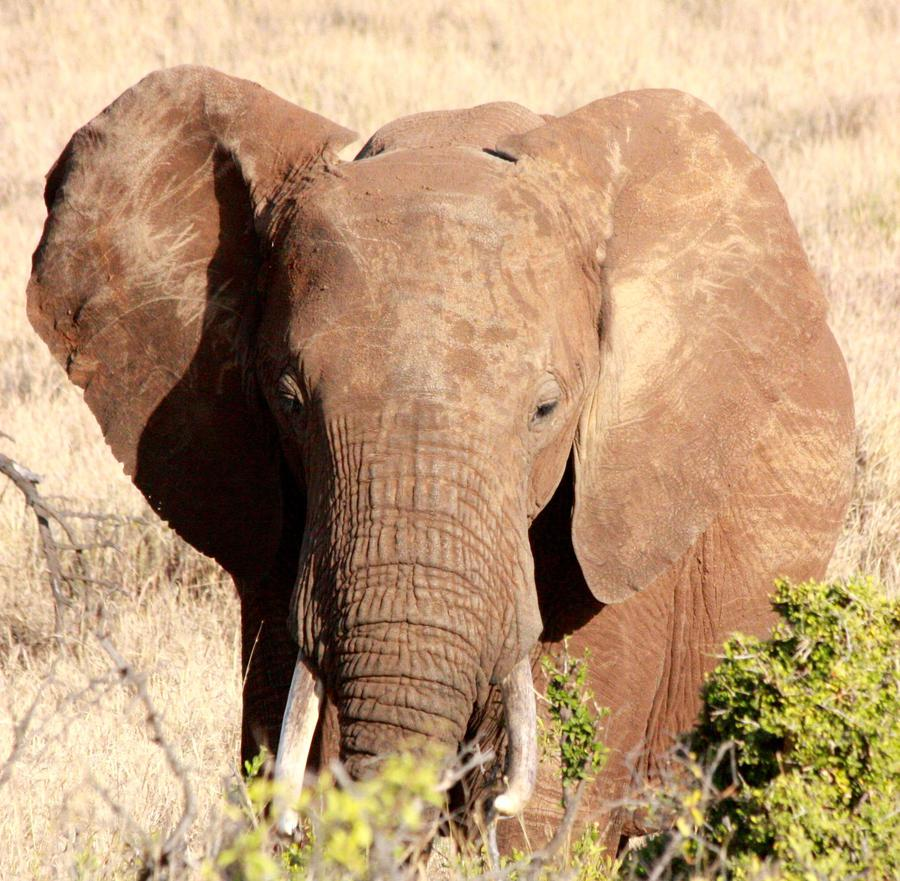elephant: (26, 64, 711, 698)
